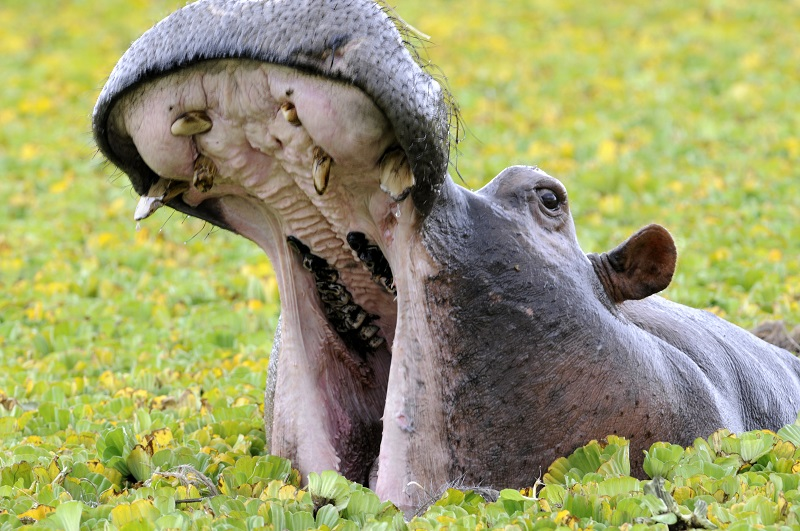Hippopotamus: (91, 3, 800, 525)
